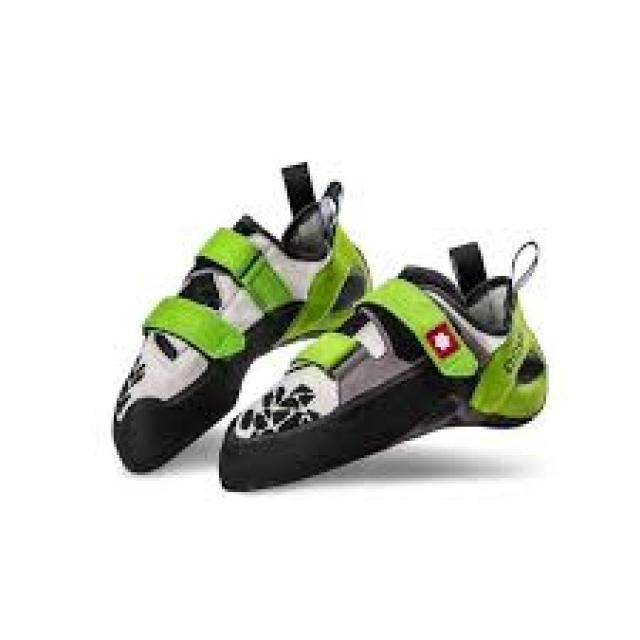climbing-shoes: (217, 237, 552, 492), (113, 158, 375, 478)
